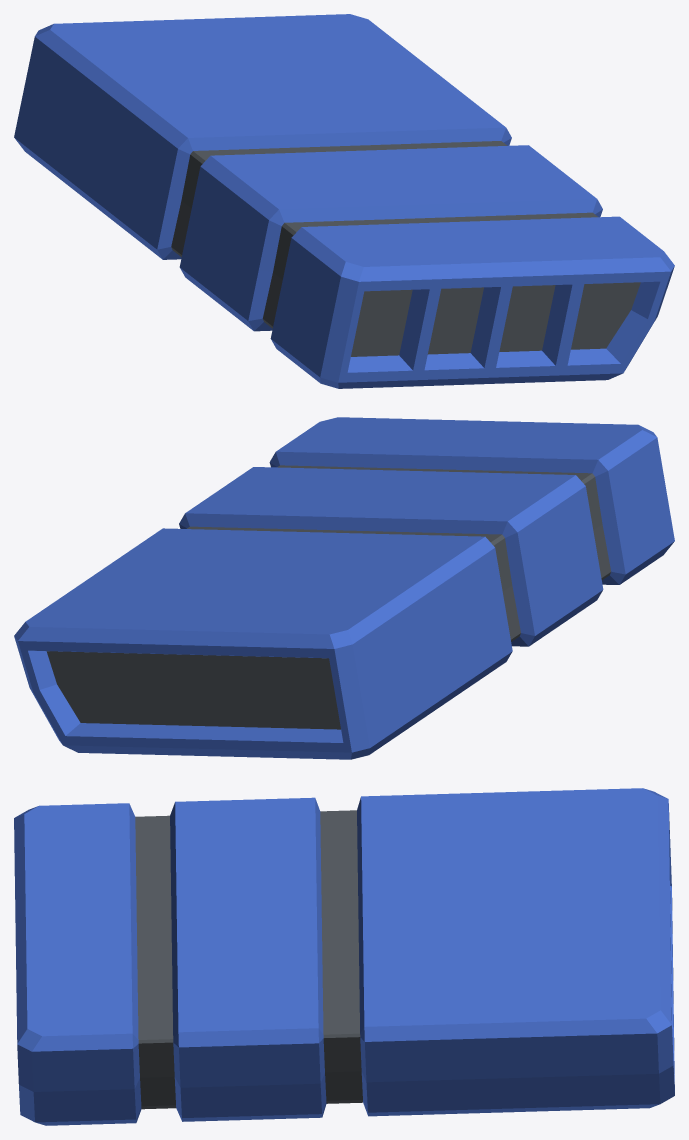
Rendered from Dropship_01_Artillery_Right_Blue.fbx.
The picture shows the model from 3 angles, top to bottom: view 1: azimuth 30°, elevation 25°; view 2: azimuth 150°, elevation 25°; view 3: azimuth 270°, elevation 25°; orthographic projection. The views are drawn at different scales.
Visible parts, largest first — view 1: Dropship_01_Artillery_Right_Blue; view 2: Dropship_01_Artillery_Right_Blue; view 3: Dropship_01_Artillery_Right_Blue.
Part boxes in pixels (bbox=[...]): Dropship_01_Artillery_Right_Blue: bbox=[14, 14, 674, 388]; Dropship_01_Artillery_Right_Blue: bbox=[14, 417, 674, 759]; Dropship_01_Artillery_Right_Blue: bbox=[14, 788, 674, 1125].
Bounding box in the file's own units: 362 × 192 × 568.
Materials: 1 (1 with a texture image).
